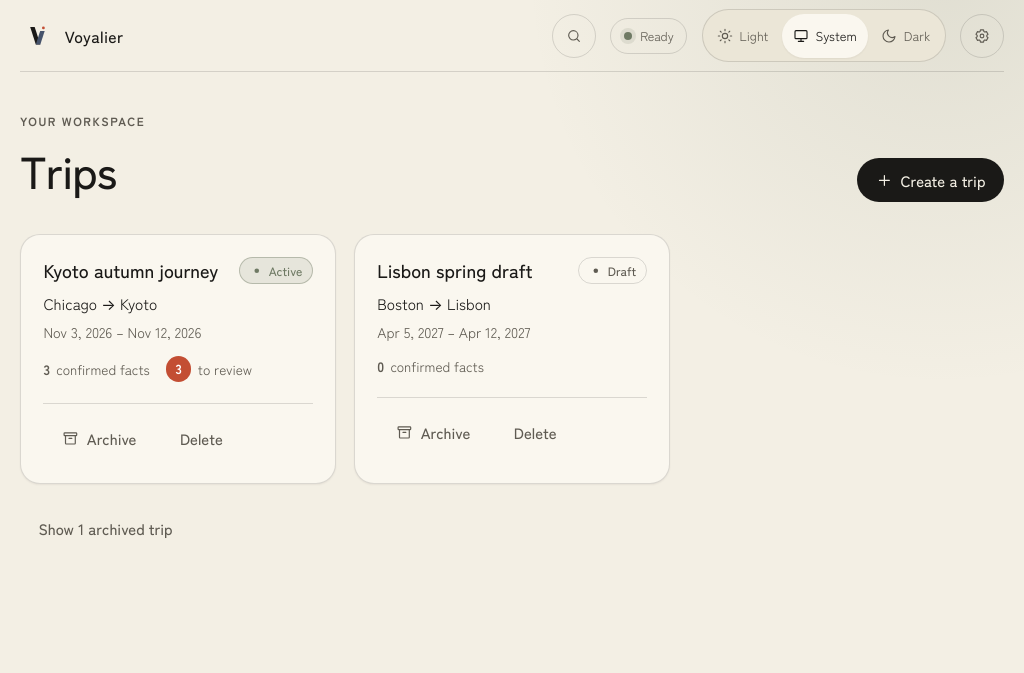
Test: Recommendations › surfaces failures while saving interests
The image size is (1024, 673).
Click the button with aria-label "Open Kyoto autumn journey" at (131, 270), box [43,257,218,283]
(page scrolled)
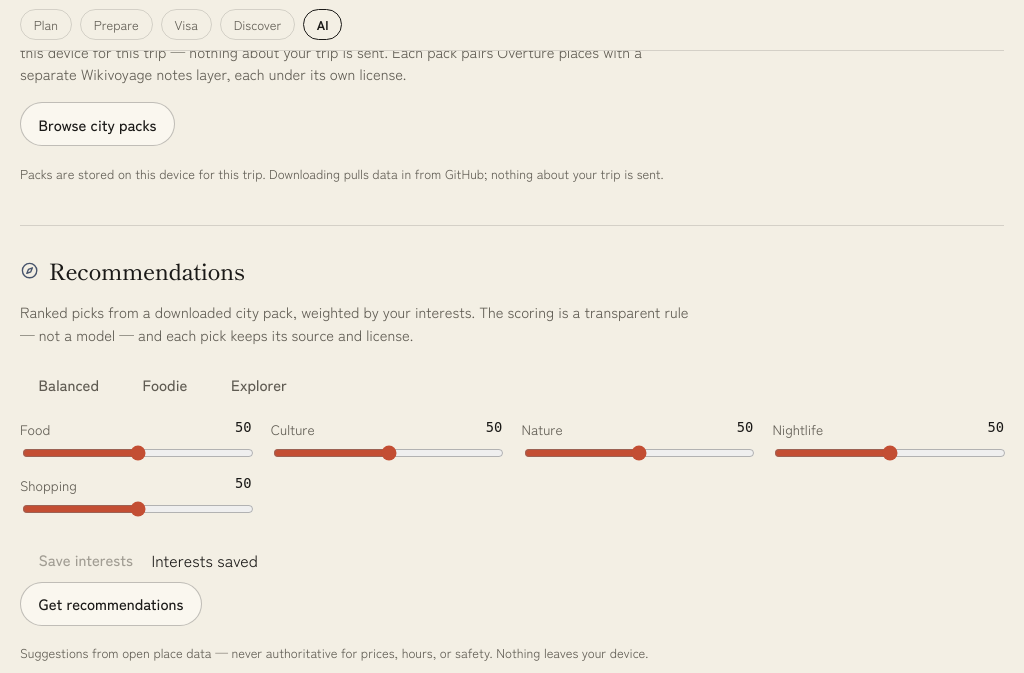
Click the button "Foodie" at (165, 384), box [124,362,206,406]
(page scrolled)
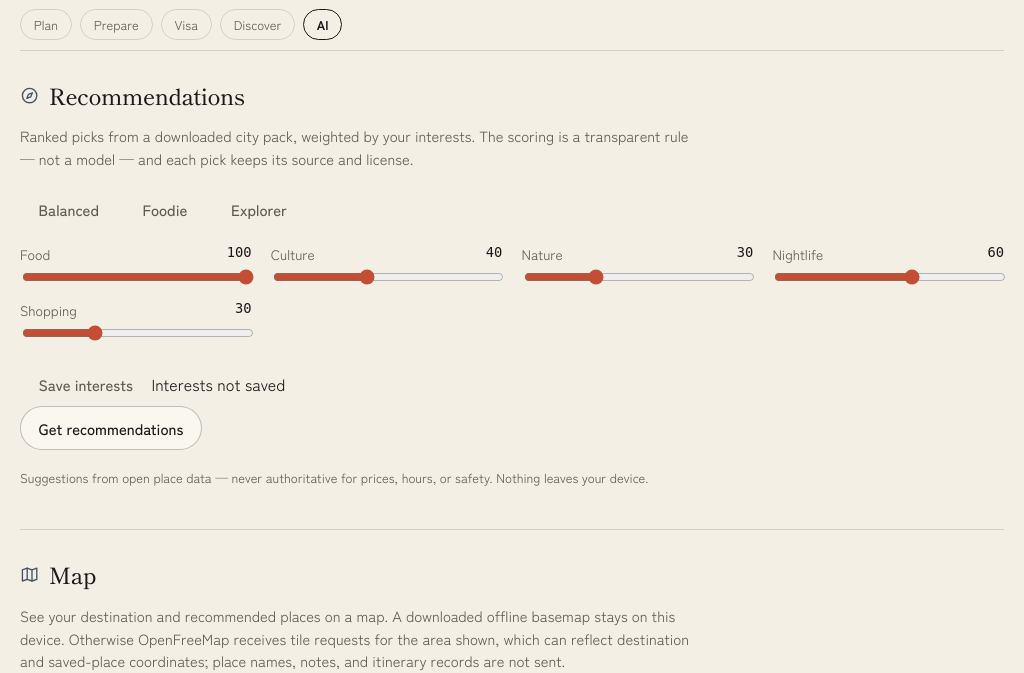
Click the button "Save interests" at (86, 384), box [20,362,152,406]
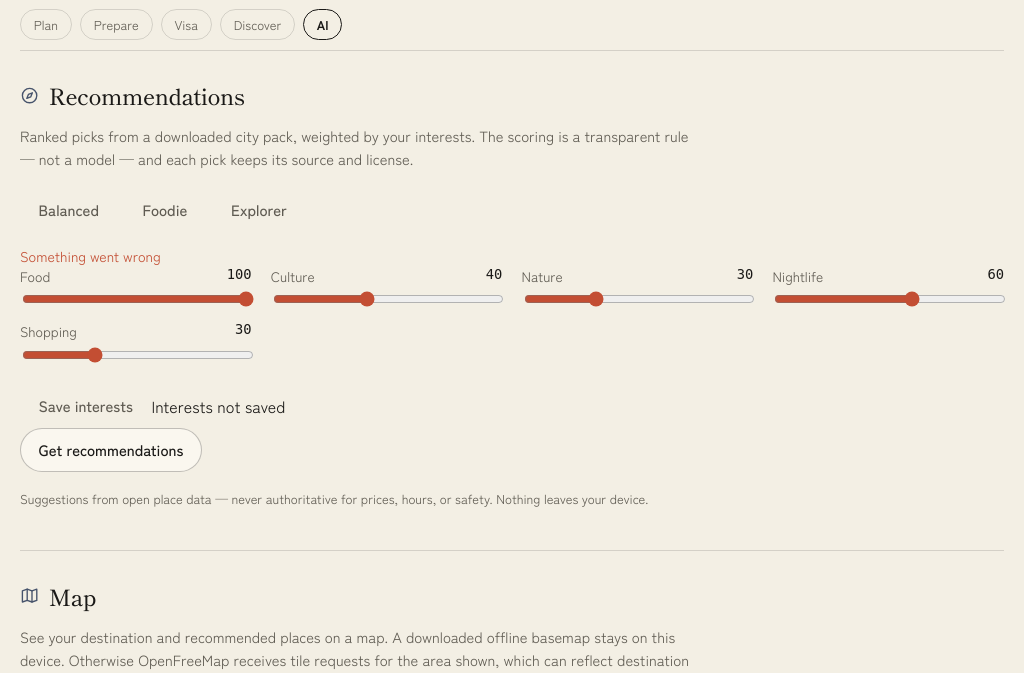
Now the message "Something went wrong" is shown, box [20,246,161,266]
